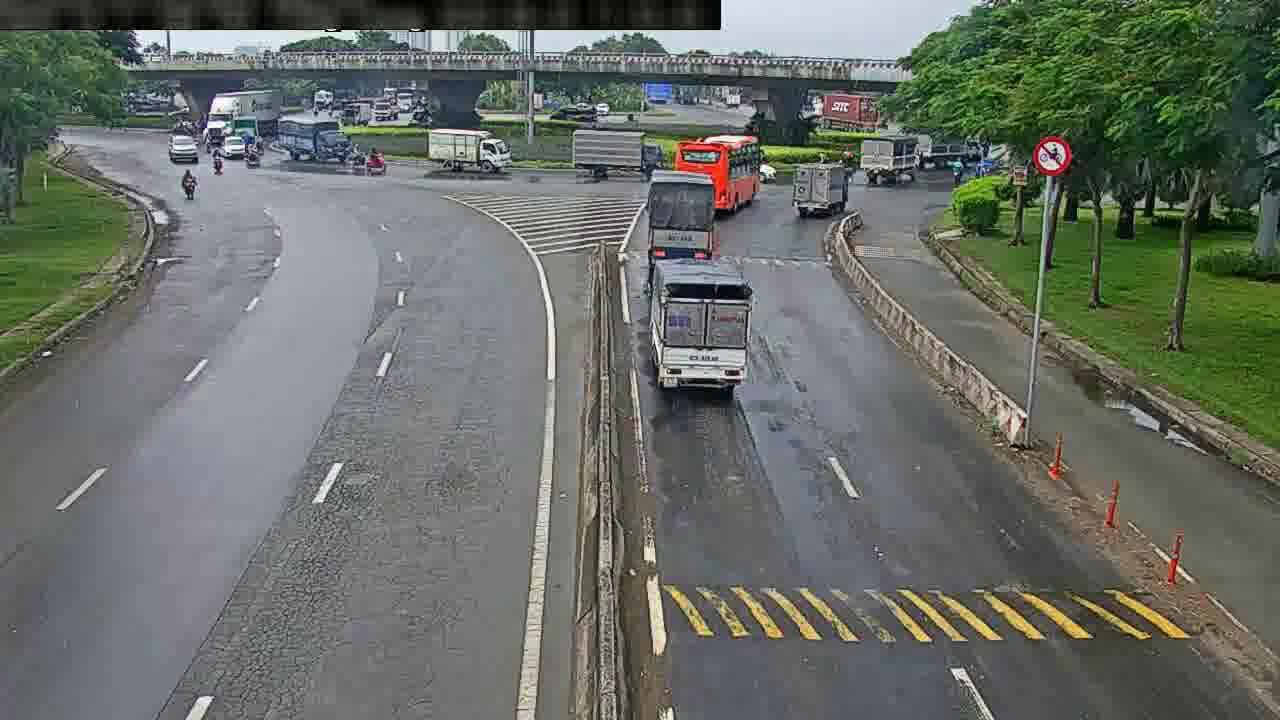14: (675, 134, 766, 210)
8: (645, 257, 753, 394), (644, 170, 718, 259), (426, 126, 518, 175), (573, 129, 662, 176), (790, 162, 855, 222), (271, 115, 353, 162), (859, 131, 922, 186)
container: (168, 133, 201, 162)
motorbike: (179, 168, 203, 202)
